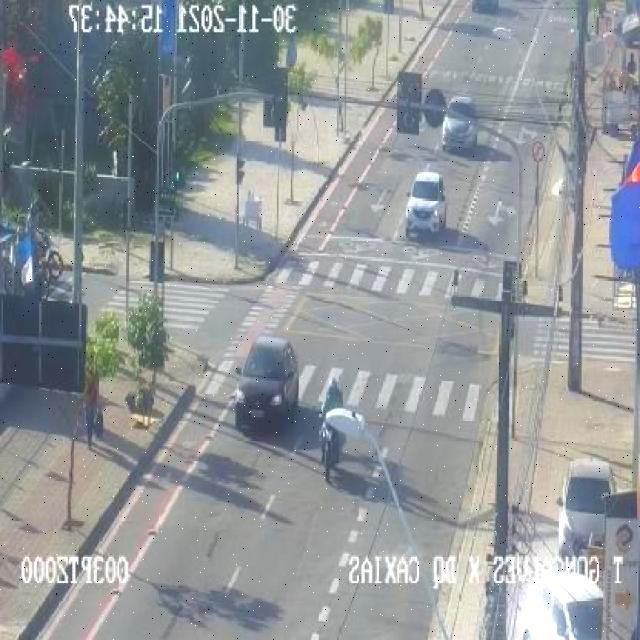Car: (233, 336, 301, 433), (512, 571, 603, 639), (560, 460, 616, 556), (405, 171, 448, 237), (440, 96, 479, 152)
